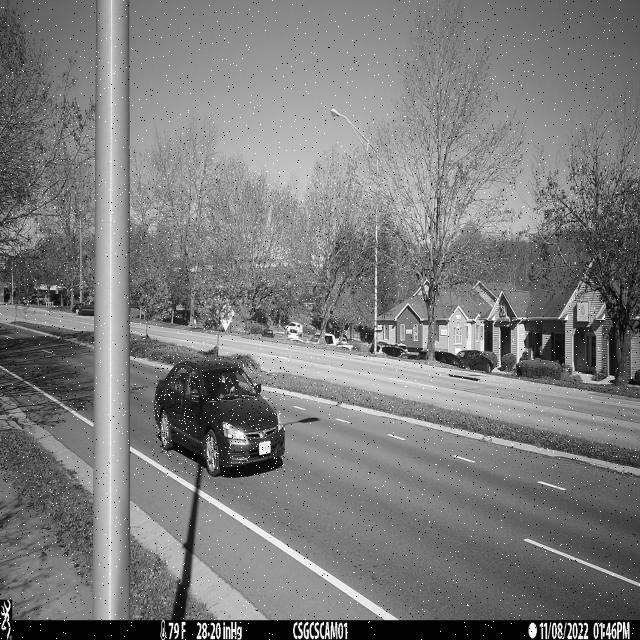Sedan: (153, 357, 285, 477)
